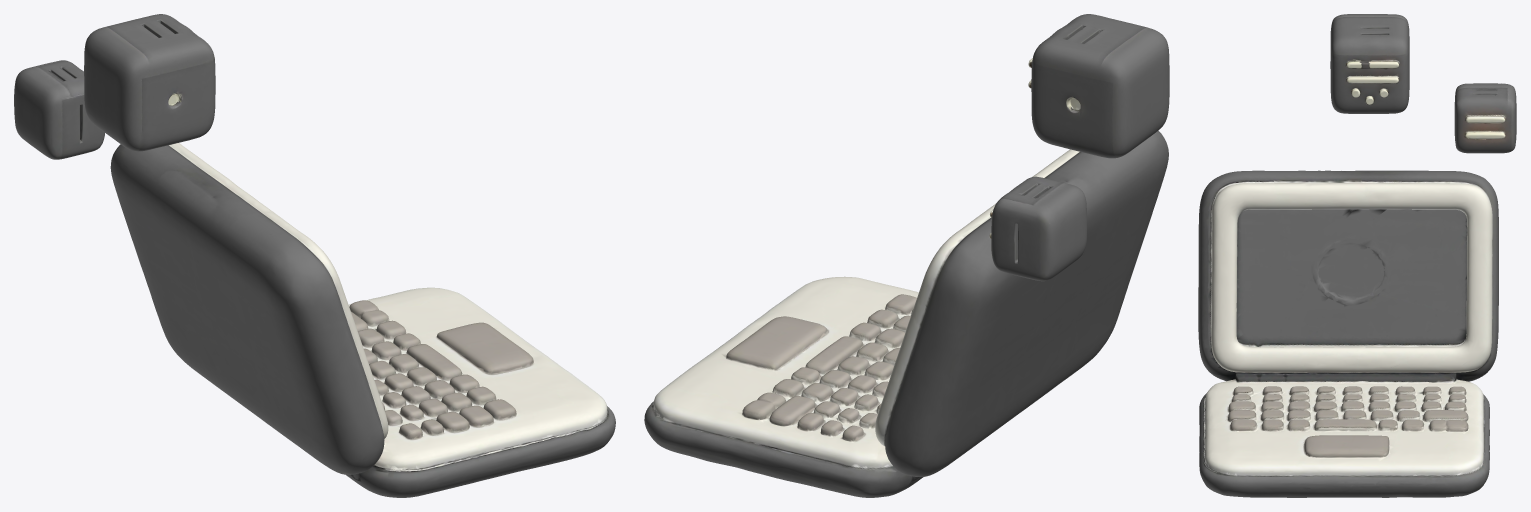
File: laptop.glb
The picture shows the model from 3 angles, left to right: view 1: azimuth 30°, elevation 25°; view 2: azimuth 150°, elevation 25°; view 3: azimuth 270°, elevation 25°; orthographic projection. The views are drawn at different scales.
Visible parts, largest first — view 1: tripo_node_84193c32-2471-4595-b480-f150b4bbe3f3; view 2: tripo_node_84193c32-2471-4595-b480-f150b4bbe3f3; view 3: tripo_node_84193c32-2471-4595-b480-f150b4bbe3f3.
Part boxes in pixels (x1,y1,x2,y2): tripo_node_84193c32-2471-4595-b480-f150b4bbe3f3: (14, 14, 615, 497); tripo_node_84193c32-2471-4595-b480-f150b4bbe3f3: (644, 14, 1169, 497); tripo_node_84193c32-2471-4595-b480-f150b4bbe3f3: (1198, 14, 1516, 497).
Size of the model in its own units: 1 by 0.9807 by 0.8371.
Materials: 1 (1 with a texture image).
